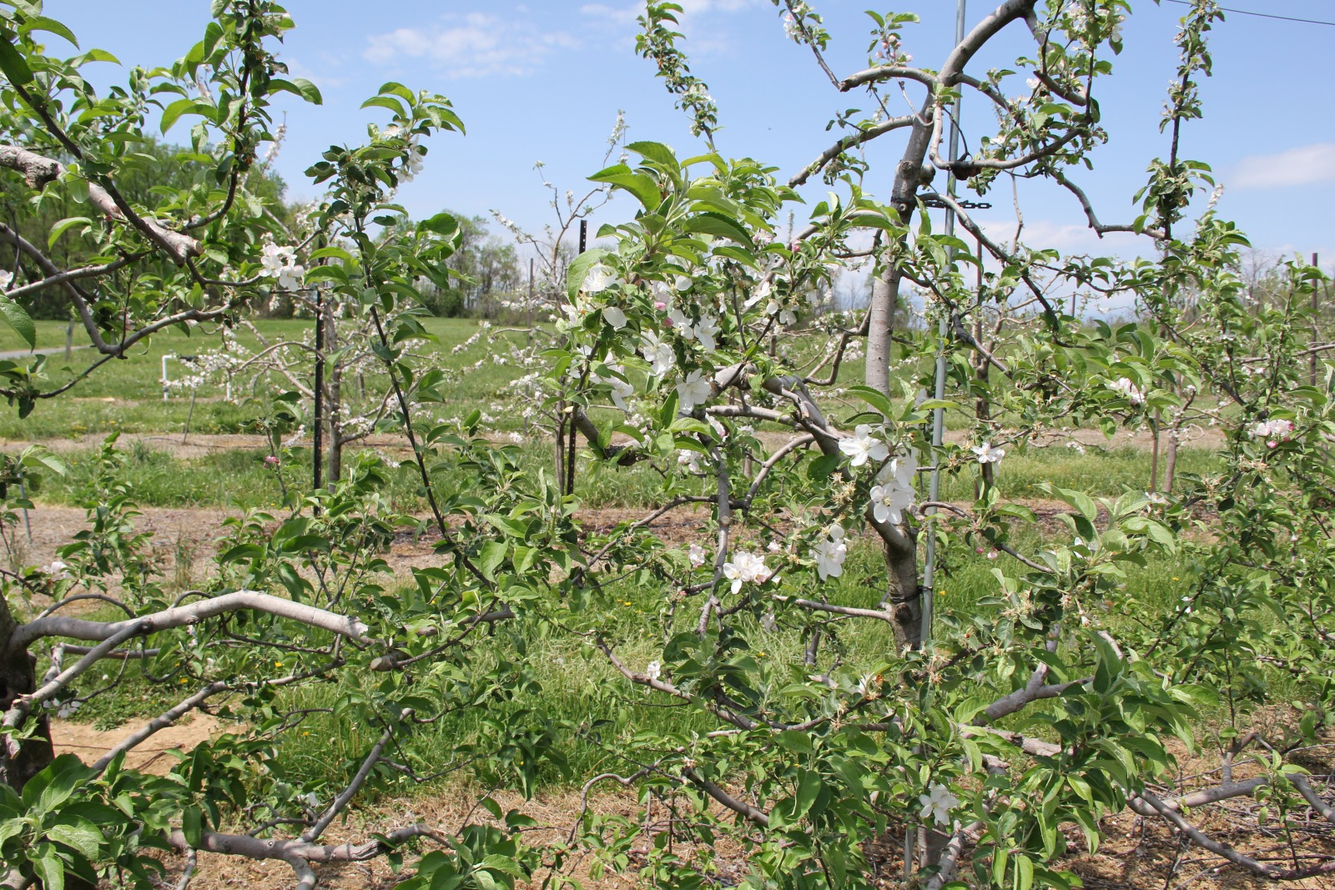flower: (648, 280, 728, 353), (870, 441, 921, 525), (254, 242, 310, 292), (809, 518, 851, 581), (638, 325, 678, 382), (723, 551, 773, 595), (839, 424, 890, 467), (672, 369, 713, 415), (919, 783, 961, 827), (589, 372, 634, 412), (390, 145, 424, 184), (971, 441, 1005, 478), (585, 267, 627, 292), (1248, 419, 1292, 440), (1110, 378, 1142, 403), (744, 282, 772, 307), (604, 307, 631, 332), (677, 450, 703, 475), (688, 541, 711, 569), (783, 13, 804, 42), (699, 84, 718, 107), (673, 274, 693, 291), (562, 305, 579, 324), (780, 308, 797, 326), (761, 613, 776, 633), (766, 299, 783, 316), (384, 126, 403, 141), (647, 661, 661, 680), (567, 368, 581, 379), (969, 456, 975, 459), (567, 369, 570, 373)
